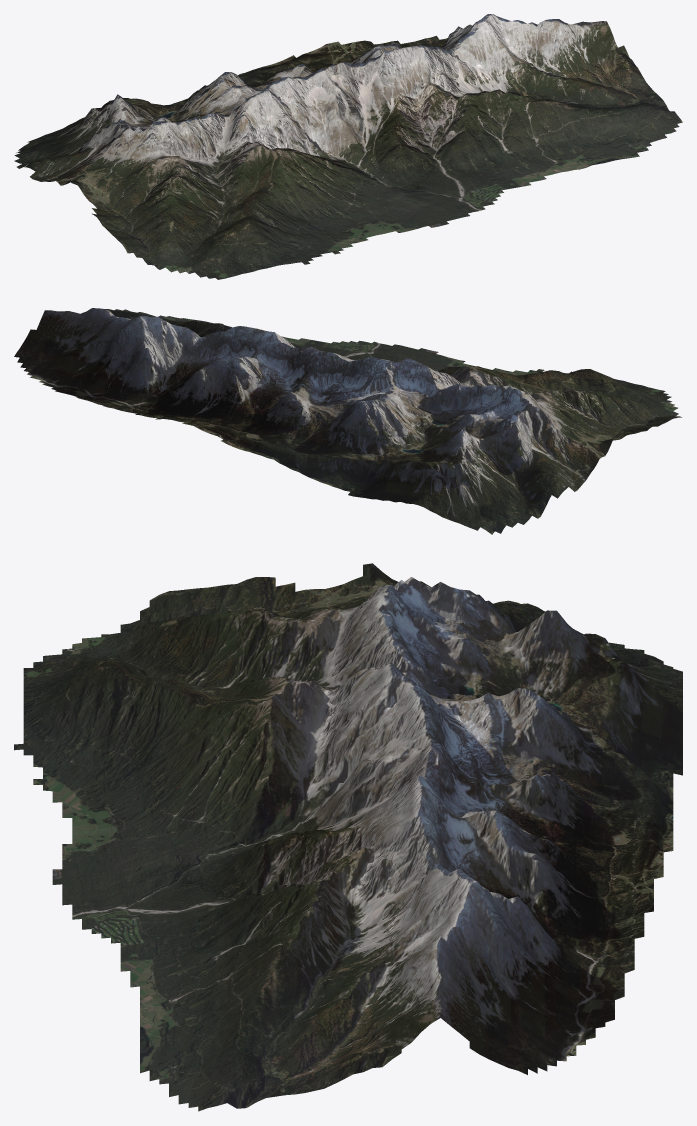
The model's file is moutain.glb.
3 views of the same model, one above another, from view 1: azimuth 30°, elevation 25°; view 2: azimuth 150°, elevation 25°; view 3: azimuth 270°, elevation 25° (orthographic). The views are drawn at different scales.
Visible parts, largest first — view 1: Object_3; view 2: Object_3; view 3: Object_3.
Boxes of the visible parts, x1,y1,x2,y2 form: Object_3: (14, 14, 682, 279); Object_3: (14, 308, 681, 534); Object_3: (14, 563, 682, 1111).
Size of the model in its own units: 292 by 42.95 by 172.
1 material, 1 textured.
